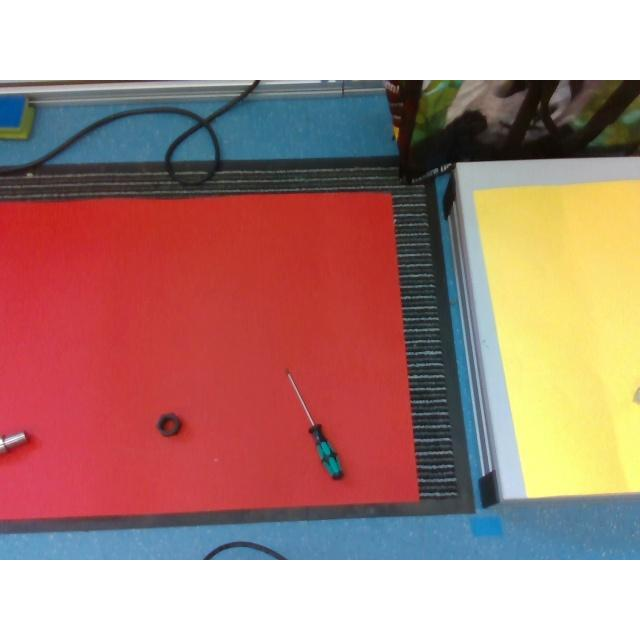Axis2: (0, 430, 28, 460)
M20: (156, 412, 182, 436)
Screwdriver: (284, 367, 344, 479)
